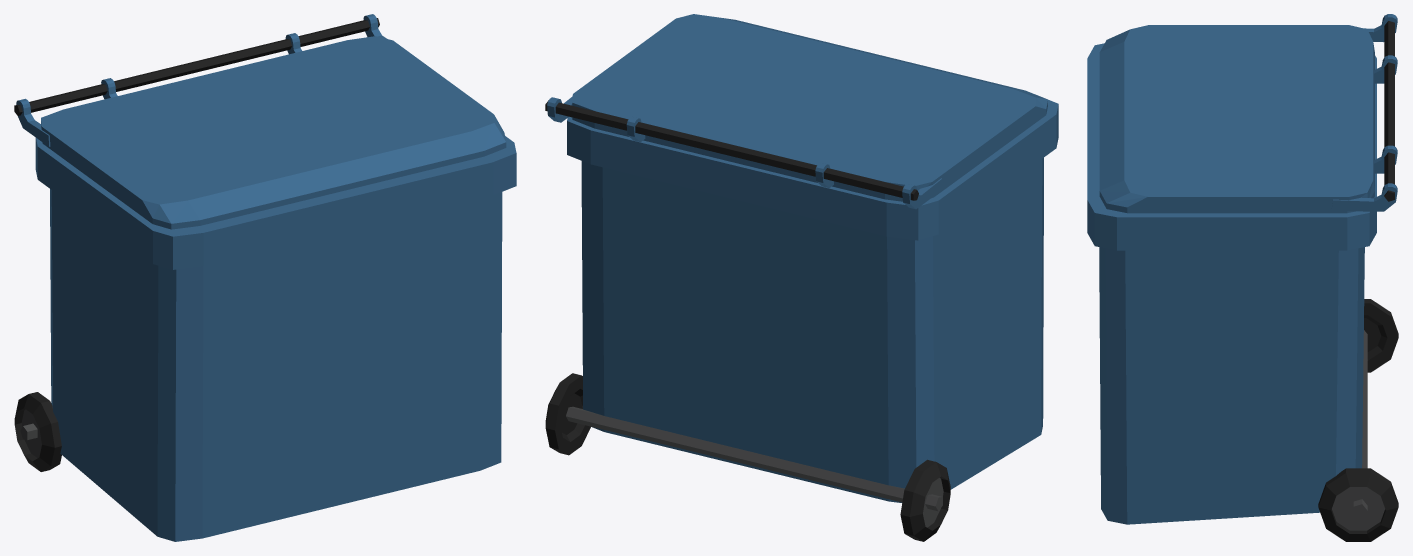
Rendered from SM_garbagecan_06.fbx.
3 views of the same model, side by side, from view 1: azimuth 30°, elevation 25°; view 2: azimuth 150°, elevation 25°; view 3: azimuth 270°, elevation 25° (orthographic). The views are drawn at different scales.
Parts seen in each view (by area): view 1: Object153; view 2: Object153; view 3: Object153.
Boxes of the visible parts, bbox=[...] form: Object153: bbox=[14, 14, 516, 541]; Object153: bbox=[545, 14, 1058, 541]; Object153: bbox=[1087, 14, 1398, 541].
Bounding box in the file's own units: 64.91 × 58.5 × 46.54.
